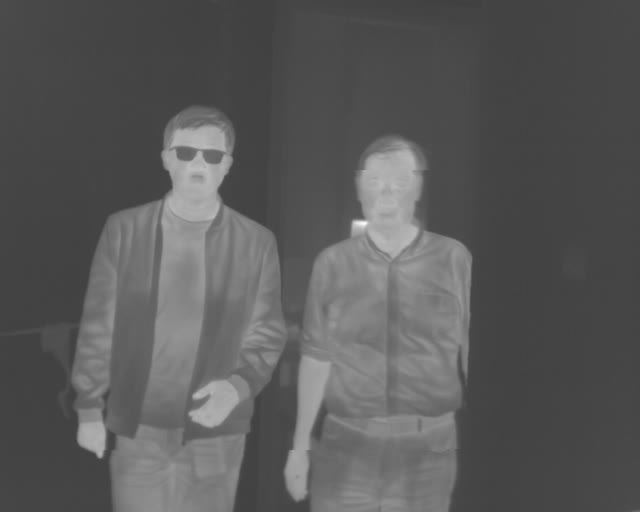face: (159, 103, 235, 207), (353, 134, 426, 237)
